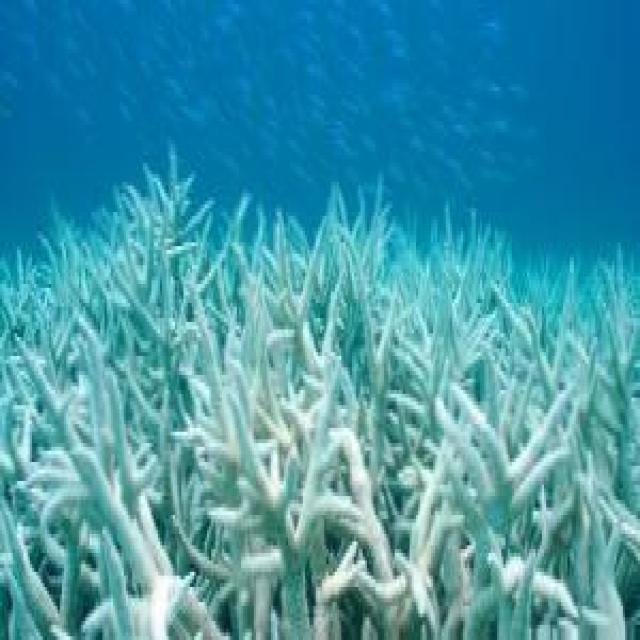bleached coral: (414, 420, 503, 640), (305, 454, 395, 595), (286, 382, 337, 549), (181, 390, 256, 500), (60, 492, 126, 613), (538, 447, 617, 542), (166, 515, 226, 610), (230, 314, 297, 394), (380, 329, 435, 424), (90, 352, 130, 477)
healthy coral: (209, 204, 309, 292), (563, 288, 640, 379), (365, 231, 425, 311), (478, 269, 521, 337)
